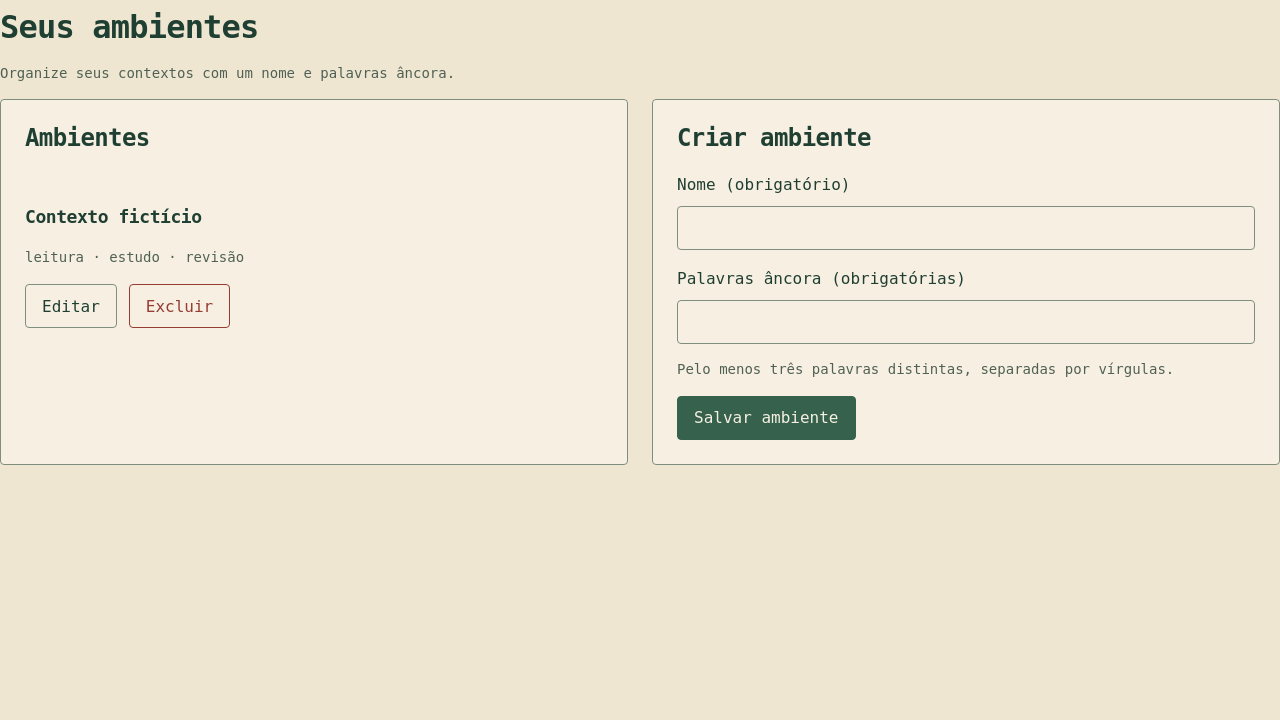
interface da primeira entrega › falha de exclusão mantém registro e não anuncia sucesso
Click the button with aria-label "Excluir Contexto fictício" at (180, 306), box [129,284,230,328]
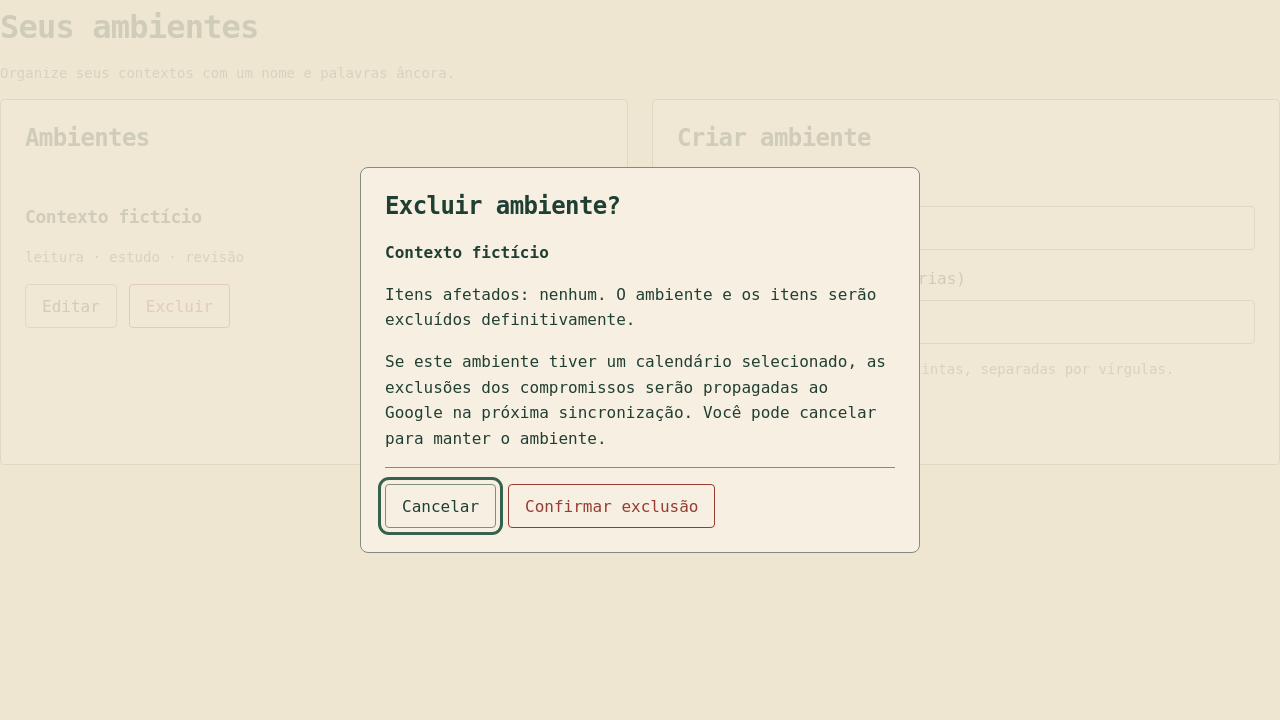
Click the button "Confirmar exclusão" at (612, 506), box [508,484,716,528]
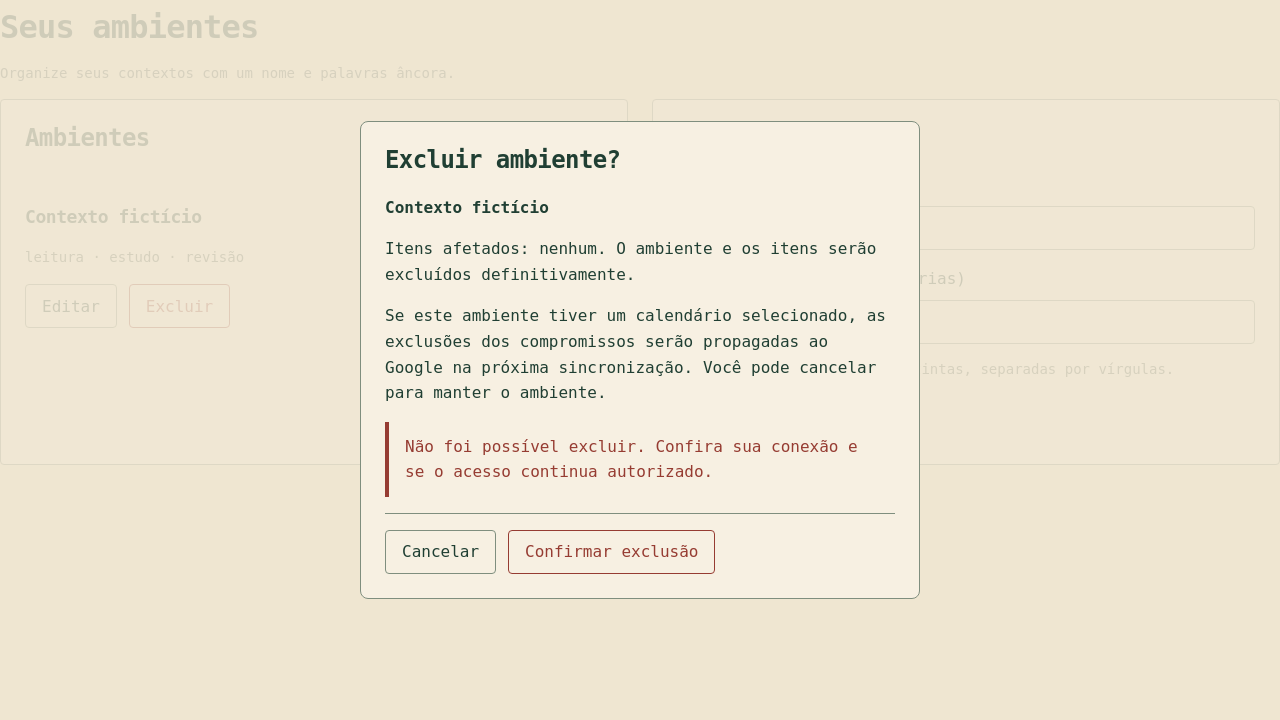
expect the heading "Contexto fictício" is shown: met, box [25,206,202,228]
expect the message shows "Não foi possível excluir": met, box [405,437,858,481]
